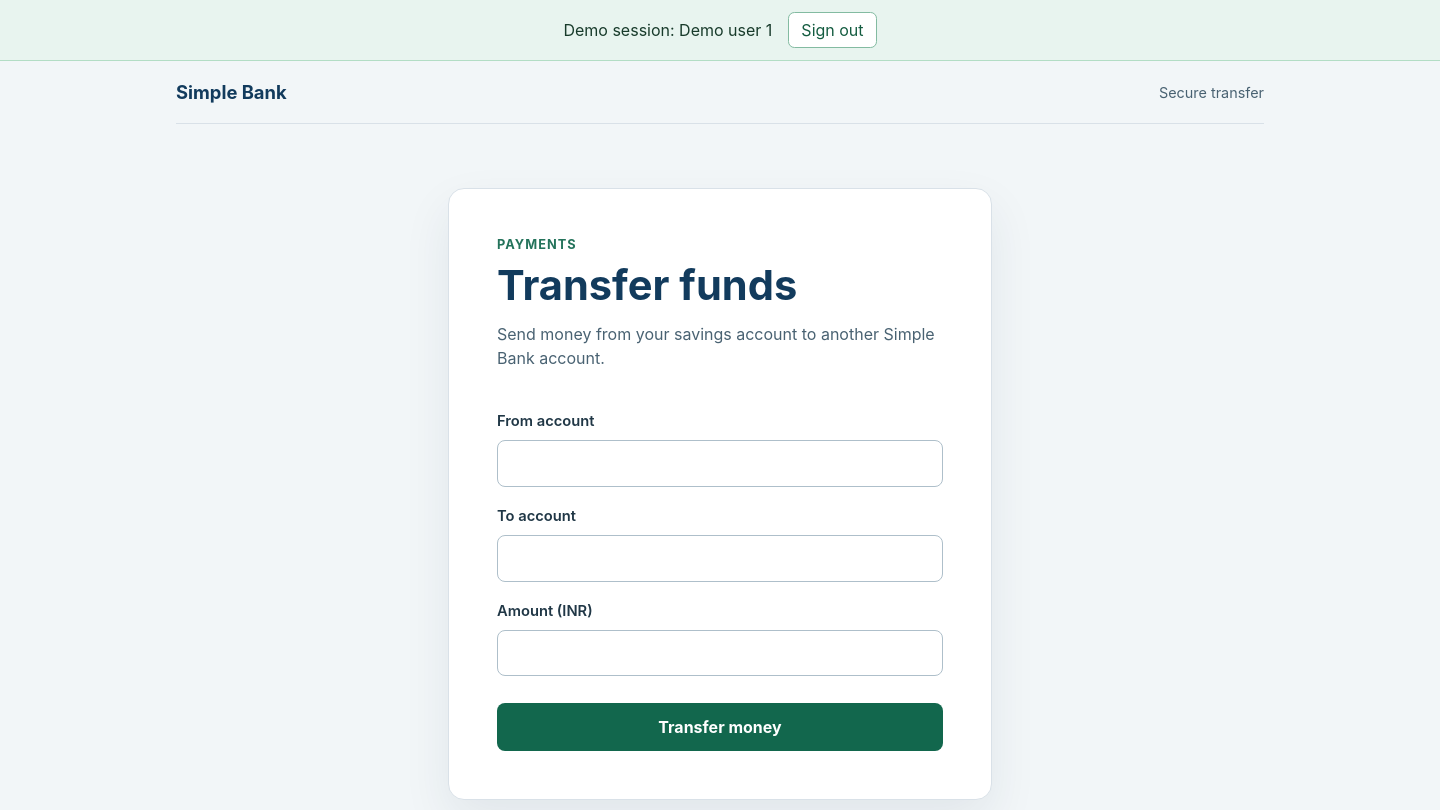
it: App development sign-in › returns to demo sign-in after signing out
Click the button "Sign out" at (832, 30), box [788, 12, 877, 48]
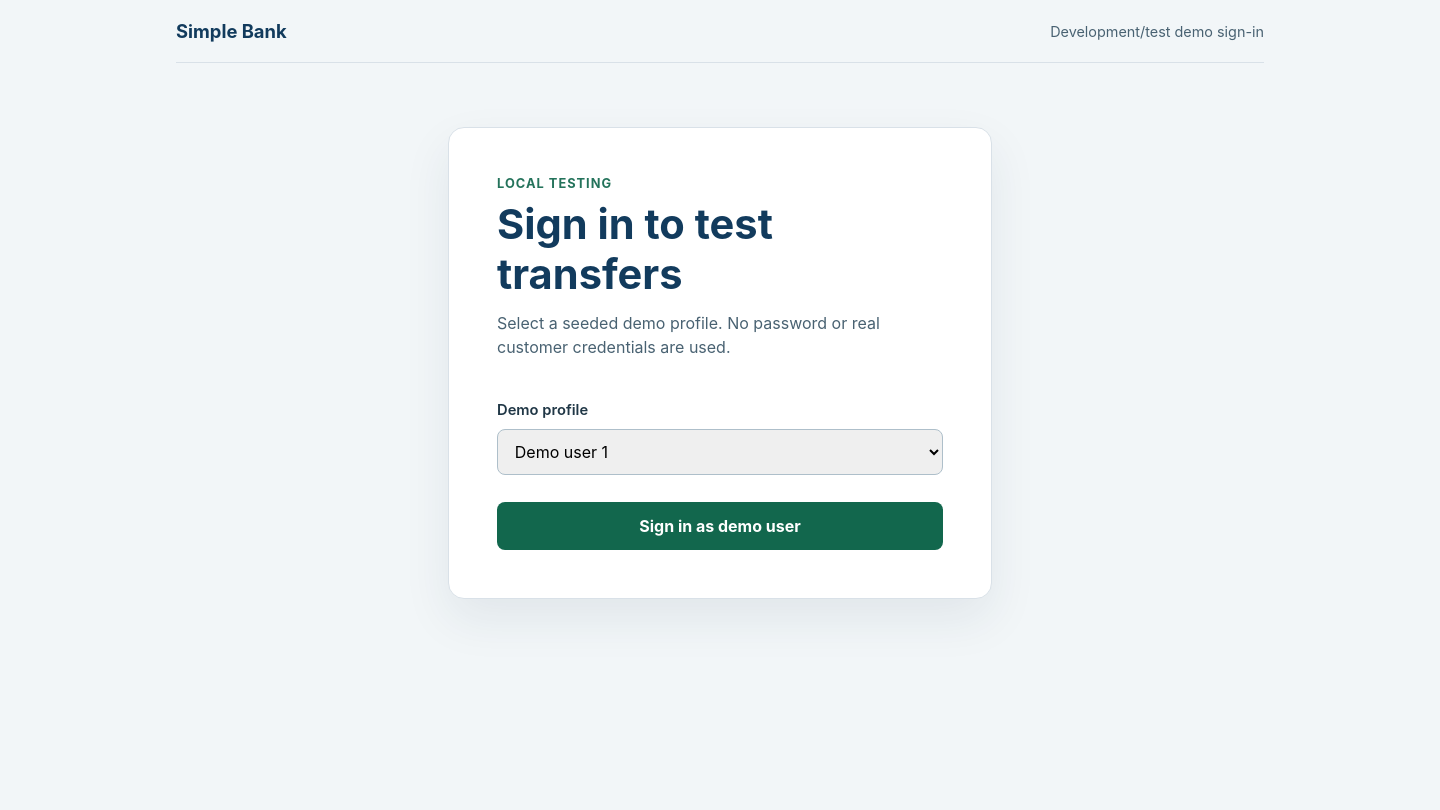
Expected: the dropdown labelled "Demo profile" is shown, [497, 429, 943, 475]
